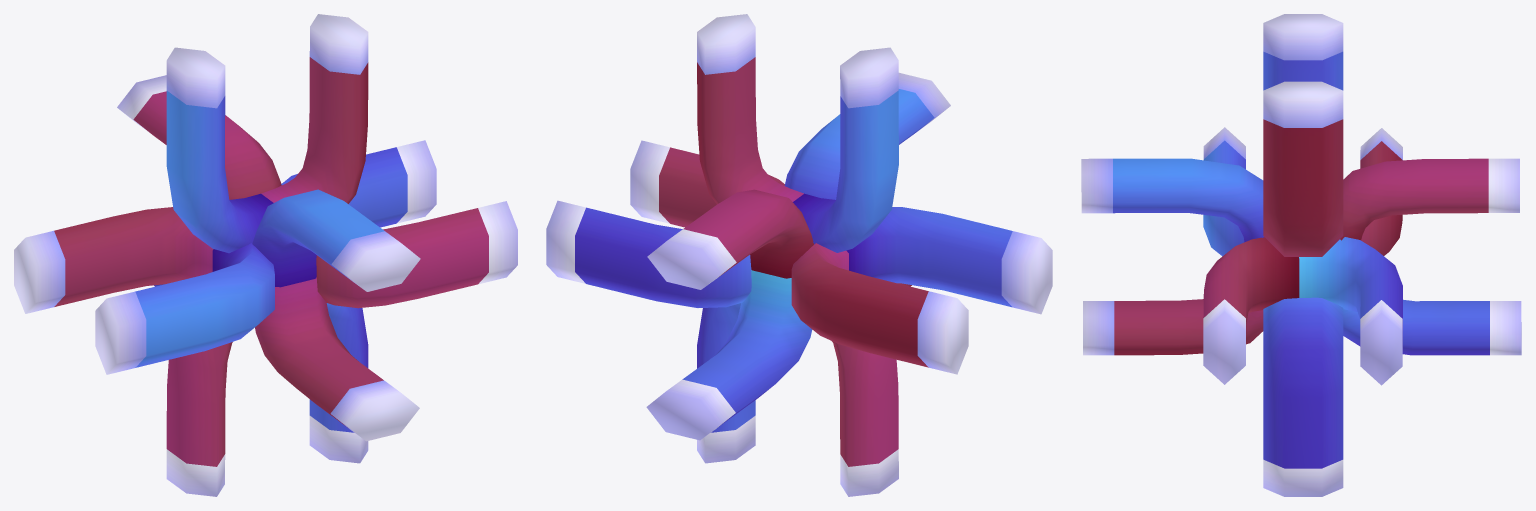
The model's file is attract.glb.
The picture shows the model from 3 angles, left to right: view 1: azimuth 30°, elevation 25°; view 2: azimuth 150°, elevation 25°; view 3: azimuth 270°, elevation 25°; orthographic projection. The views are drawn at different scales.
Parts seen in each view (by area): view 1: NurbsPath.004, NurbsPath.005, NurbsPath.003; view 2: NurbsPath.004, NurbsPath.005, NurbsPath.003; view 3: NurbsPath.005, NurbsPath.003, NurbsPath.004.
Part boxes in pixels (<box>): NurbsPath.004: <box>14,140,517,374</box>; NurbsPath.005: <box>166,14,368,496</box>; NurbsPath.003: <box>117,75,420,441</box>; NurbsPath.004: <box>546,140,1052,374</box>; NurbsPath.005: <box>697,14,898,496</box>; NurbsPath.003: <box>646,72,950,440</box>; NurbsPath.005: <box>1263,14,1343,496</box>; NurbsPath.003: <box>1081,158,1521,355</box>; NurbsPath.004: <box>1203,127,1402,385</box>.
Size of the model in its own units: 5.6 by 5.6 by 5.6.
Materials: 1 (1 with a texture image).
